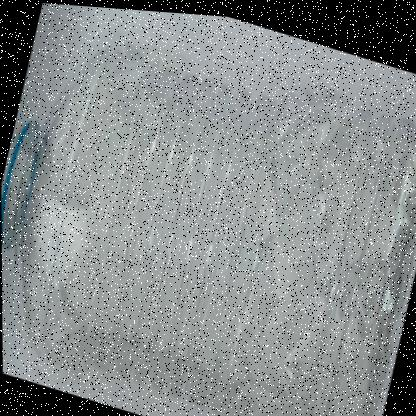open bottle: (1, 1, 147, 394)
